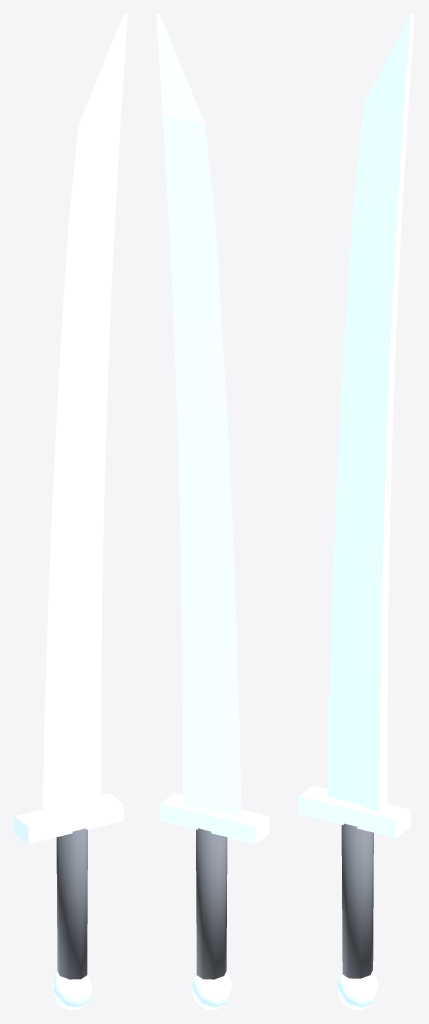
File: counterpart_reflection.glb
The picture shows the model from 3 angles, left to right: view 1: azimuth 30°, elevation 25°; view 2: azimuth 150°, elevation 25°; view 3: azimuth 330°, elevation 25°; orthographic projection. The views are drawn at different scales.
Visible parts, largest first — view 1: CounterpartReflection; view 2: CounterpartReflection; view 3: CounterpartReflection.
Boxes of the visible parts, x1,y1,x2,y2 form: CounterpartReflection: [14, 14, 127, 1009]; CounterpartReflection: [156, 14, 269, 1009]; CounterpartReflection: [298, 14, 414, 1009].
Bounding box in the file's own units: 0.1285 × 1.13 × 0.044.
